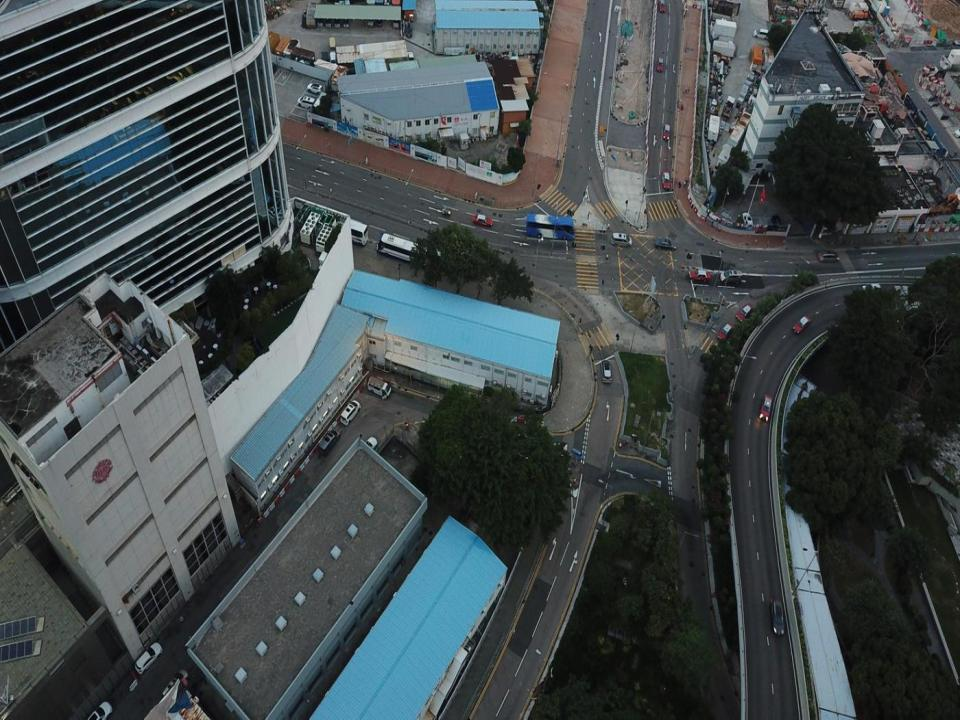bus: (378, 232, 435, 266), (525, 212, 579, 240), (327, 216, 370, 245)
car: (134, 640, 164, 674), (768, 599, 785, 636), (353, 437, 378, 462), (163, 671, 188, 696), (84, 702, 115, 719), (716, 322, 734, 344), (792, 314, 811, 333), (600, 357, 612, 387), (759, 394, 772, 421), (817, 248, 840, 263), (737, 302, 754, 320), (655, 238, 675, 251), (742, 210, 754, 231), (661, 170, 671, 192), (772, 215, 783, 235), (307, 80, 323, 93), (656, 53, 666, 73), (473, 213, 492, 223), (689, 270, 709, 279), (664, 121, 672, 142), (658, 0, 666, 16)
truck: (721, 95, 735, 122)
van: (339, 398, 361, 425), (366, 376, 393, 397), (319, 430, 342, 454), (610, 231, 633, 247), (721, 269, 742, 283), (752, 28, 772, 40), (296, 95, 314, 108)
